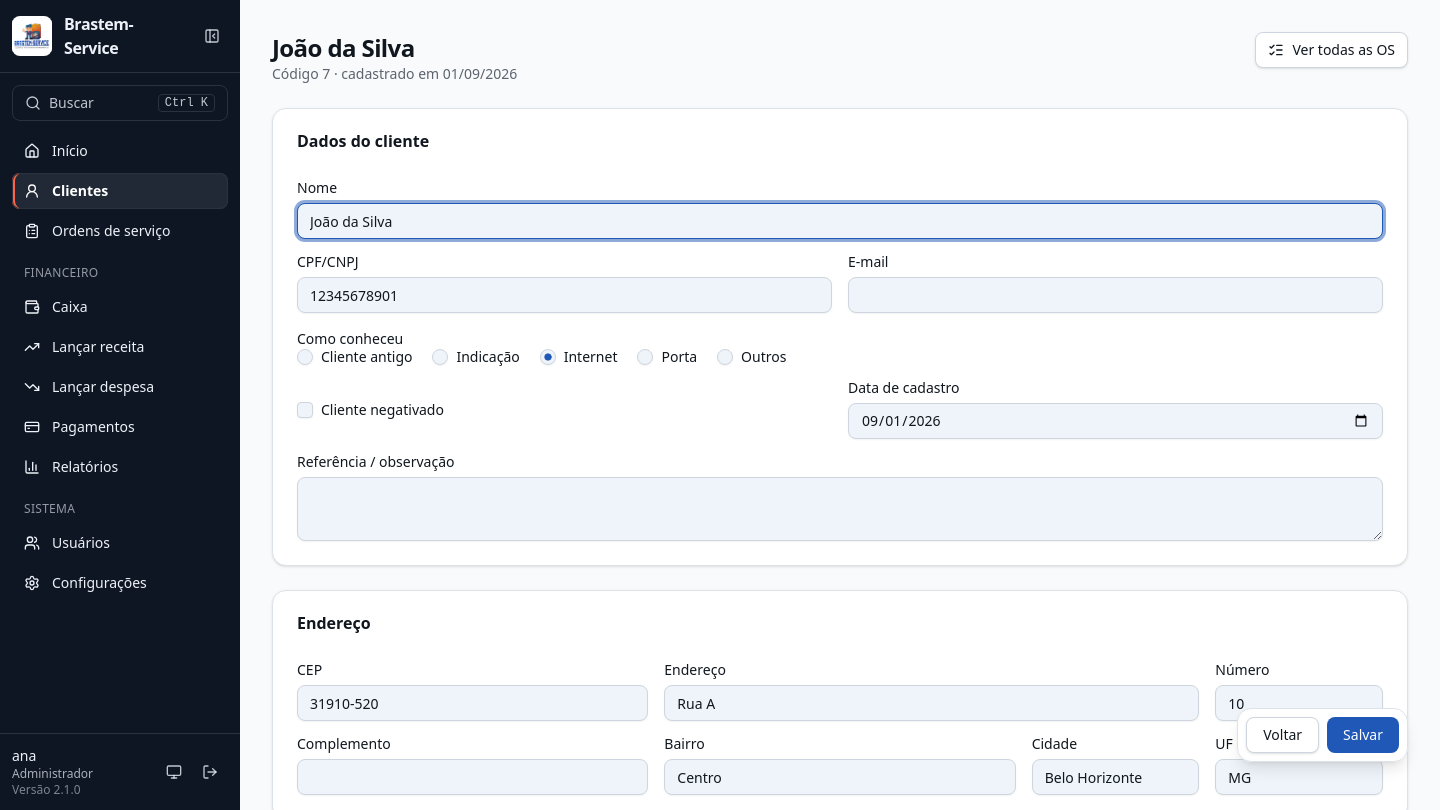
Test: sair sem salvar (R-UX-02) › o botão Voltar do formulário também pergunta
Replace the text in the field labelled "Nome" with "Outro nome": [840, 221] box [297,203,1383,239]
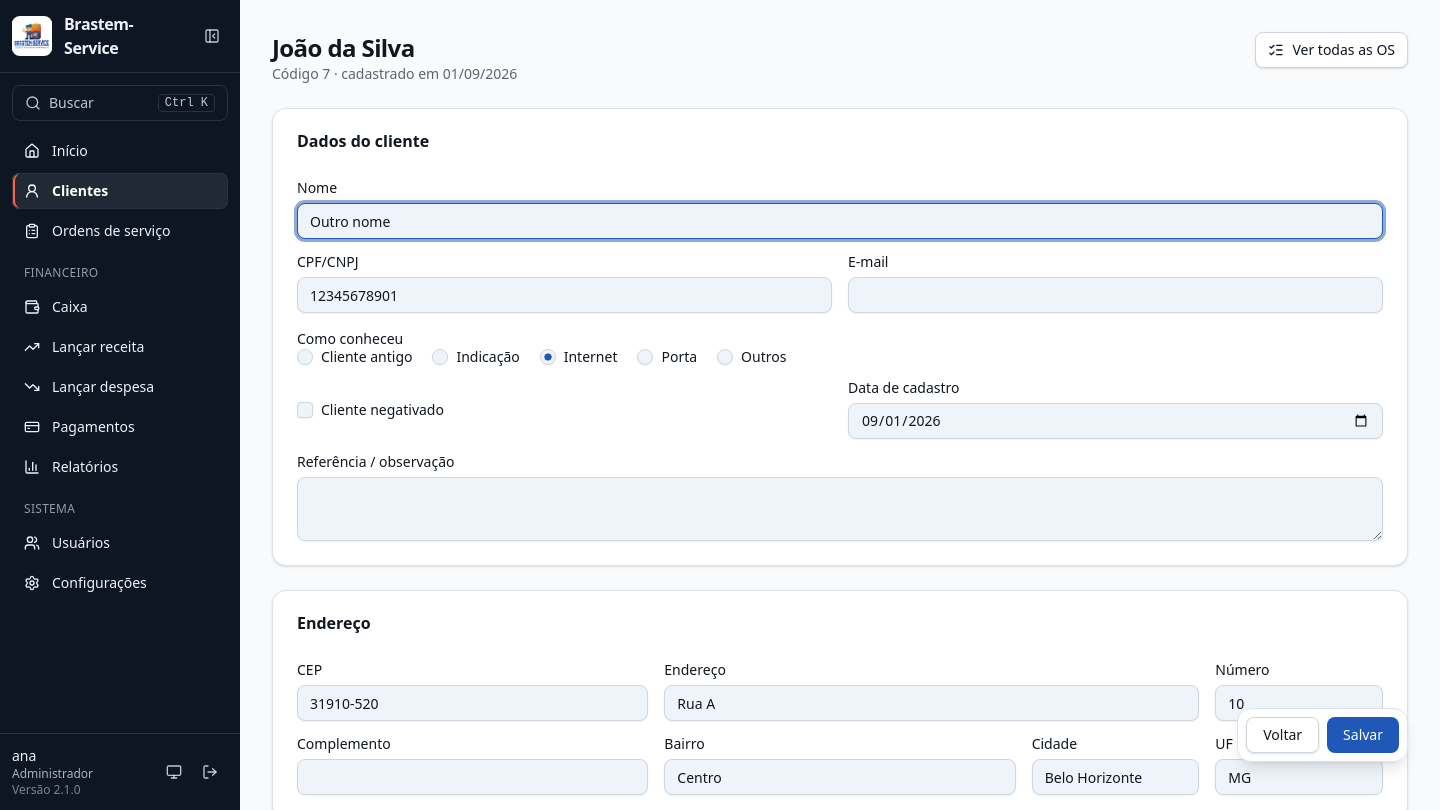
Click the button "Voltar": [1283, 735] box [1246,717,1319,753]
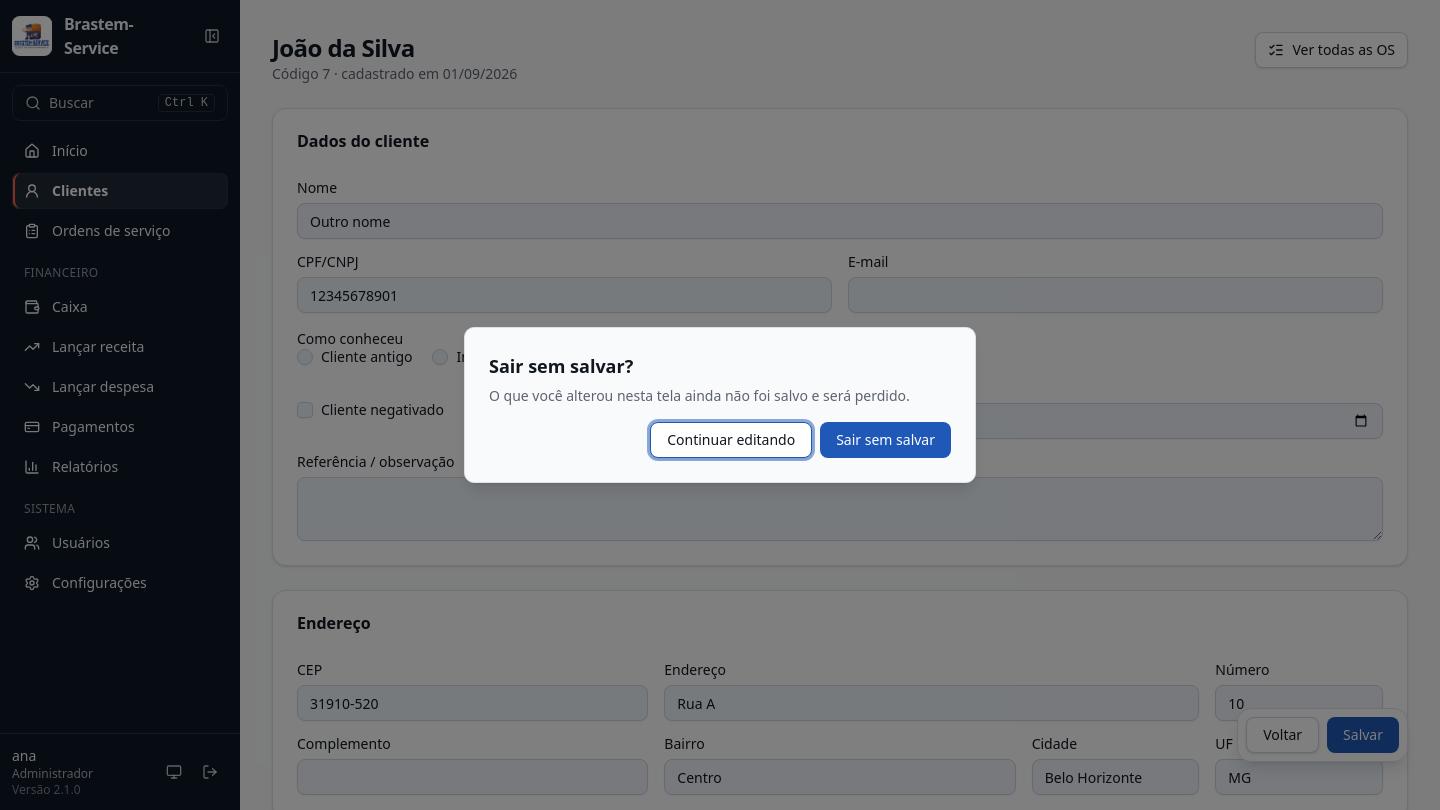
Expected: the dialog "Sair sem salvar?" is shown, [464,327,976,483]
